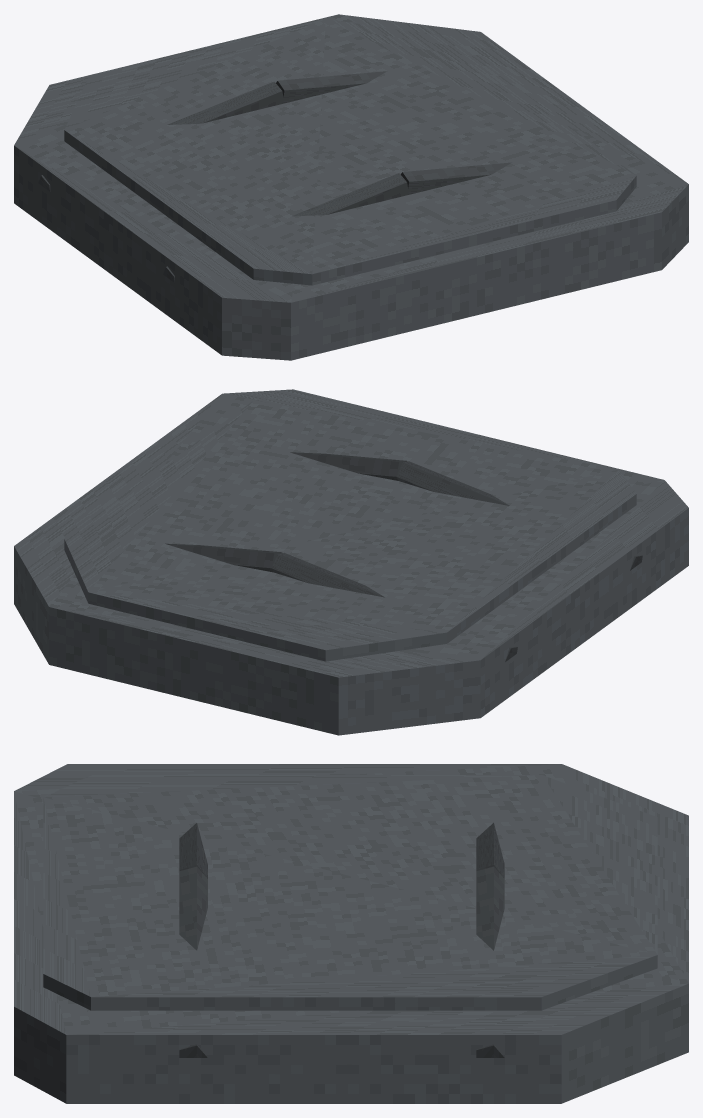
Rendered from iotv_groin_plate.glb.
The picture shows the model from 3 angles, top to bottom: view 1: azimuth 30°, elevation 25°; view 2: azimuth 150°, elevation 25°; view 3: azimuth 270°, elevation 25°; orthographic projection. The views are drawn at different scales.
Parts seen in each view (by area): view 1: block_raised outer surface, block_shaped protective panel, block_retention strap 0 (×2), block_retention strap 1 (×2); view 2: block_raised outer surface, block_shaped protective panel, block_retention strap 0 (×2), block_retention strap 1 (×2); view 3: block_raised outer surface, block_shaped protective panel, block_retention strap 1 (×2), block_retention strap 0 (×2).
Part boxes in pixels (x1=…): block_raised outer surface: x1=64, y1=19, x2=636, y2=285; block_shaped protective panel: x1=14, y1=14, x2=688, y2=360; block_retention strap 0 (×2): x1=38, y1=81, x2=408, y2=282; block_retention strap 1 (×2): x1=276, y1=71, x2=511, y2=194; block_raised outer surface: x1=64, y1=395, x2=636, y2=661; block_shaped protective panel: x1=14, y1=389, x2=688, y2=735; block_retention strap 0 (×2): x1=271, y1=461, x2=642, y2=661; block_retention strap 1 (×2): x1=165, y1=452, x2=407, y2=572; block_raised outer surface: x1=43, y1=775, x2=657, y2=1010; block_shaped protective panel: x1=14, y1=764, x2=688, y2=1103; block_retention strap 1 (×2): x1=179, y1=866, x2=504, y2=1057; block_retention strap 0 (×2): x1=179, y1=822, x2=504, y2=878.
Size of the model in its own units: 0.1903 by 0.0335 by 0.1991.
1 material, 1 textured.
